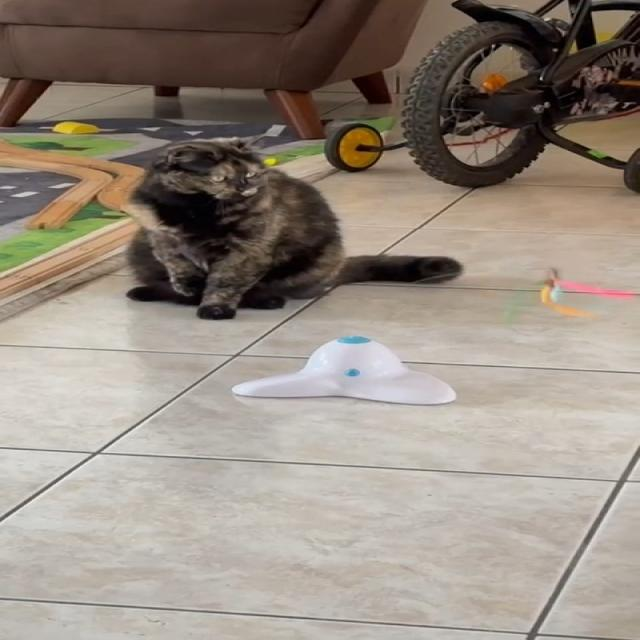authorized: (121, 134, 463, 320)
